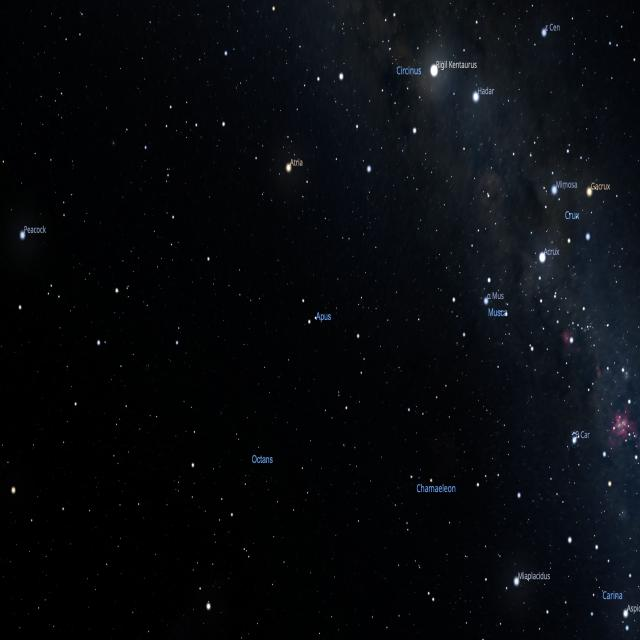Apus: (300, 296, 360, 340)
